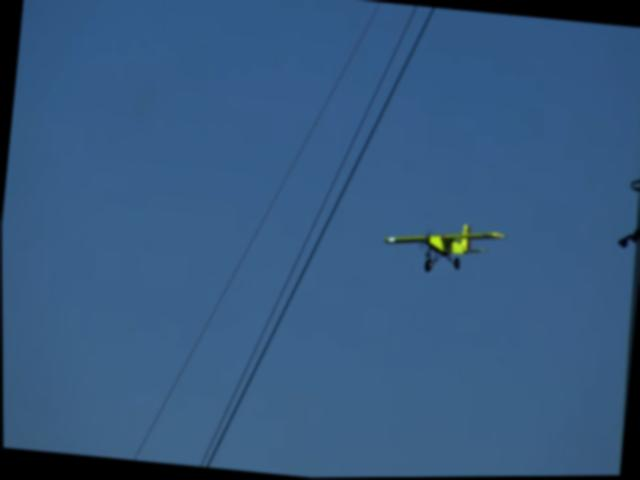plane: (381, 215, 508, 281)
